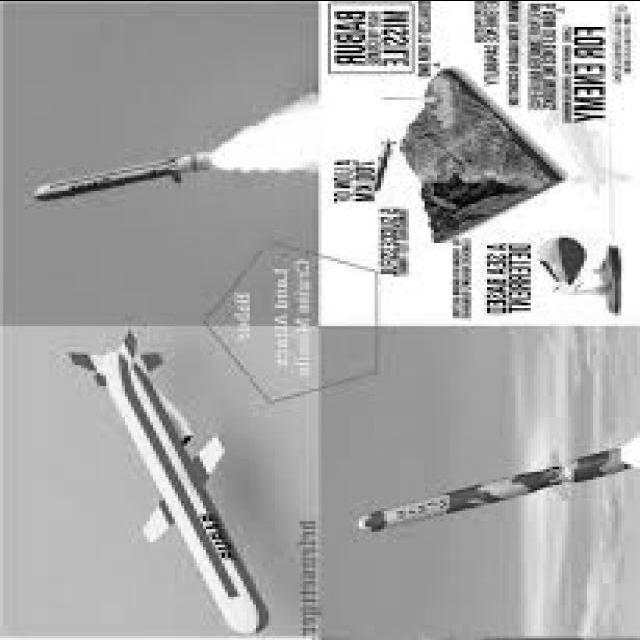missile: (63, 328, 296, 640), (354, 453, 630, 535), (26, 149, 201, 203)
